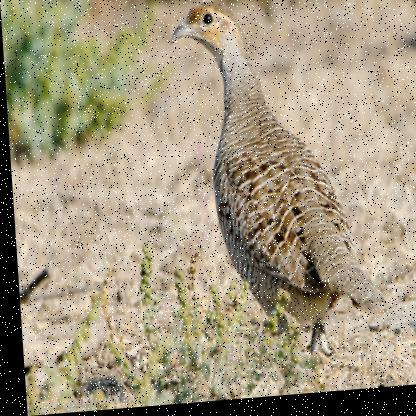Burung: (168, 0, 382, 370)
